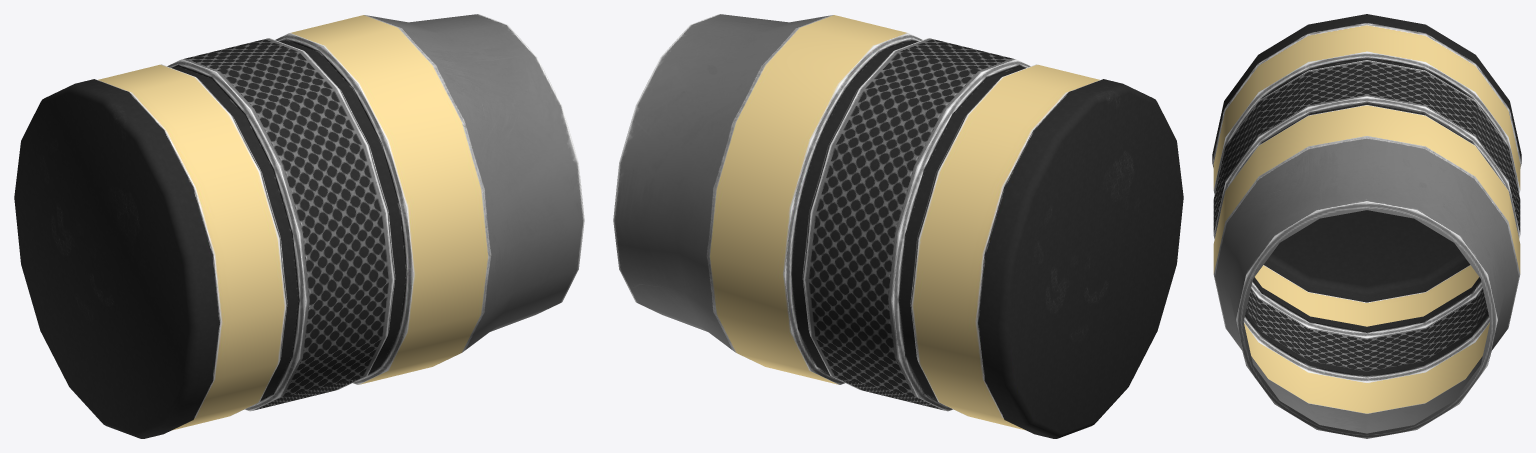
Rendered from pommel_15_c_b.glb.
3 renders of one model, left to right at view 1: azimuth 30°, elevation 25°; view 2: azimuth 150°, elevation 25°; view 3: azimuth 270°, elevation 25°, orthographic. The views are drawn at different scales.
Visible parts, largest first — view 1: pommel_15_c_b_lod0; view 2: pommel_15_c_b_lod0; view 3: pommel_15_c_b_lod0.
Boxes of the visible parts, x1,y1,x2,y2 form: pommel_15_c_b_lod0: [14, 14, 584, 438]; pommel_15_c_b_lod0: [613, 14, 1183, 438]; pommel_15_c_b_lod0: [1212, 14, 1521, 438].
Size of what is drawn, in the model's own units: 0.0465 by 0.0357 by 0.0357.
1 material, 1 textured.
